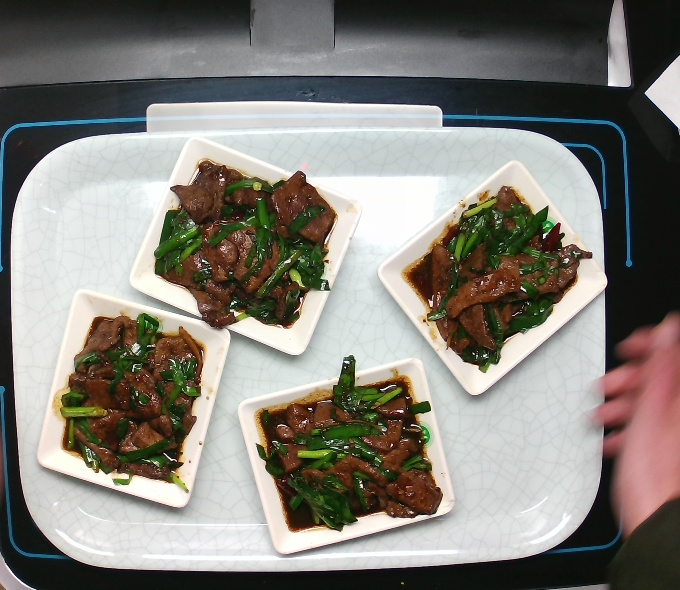wcq-ZhuGan: (401, 181, 596, 372), (152, 142, 338, 336), (250, 356, 443, 538), (57, 312, 208, 492)
